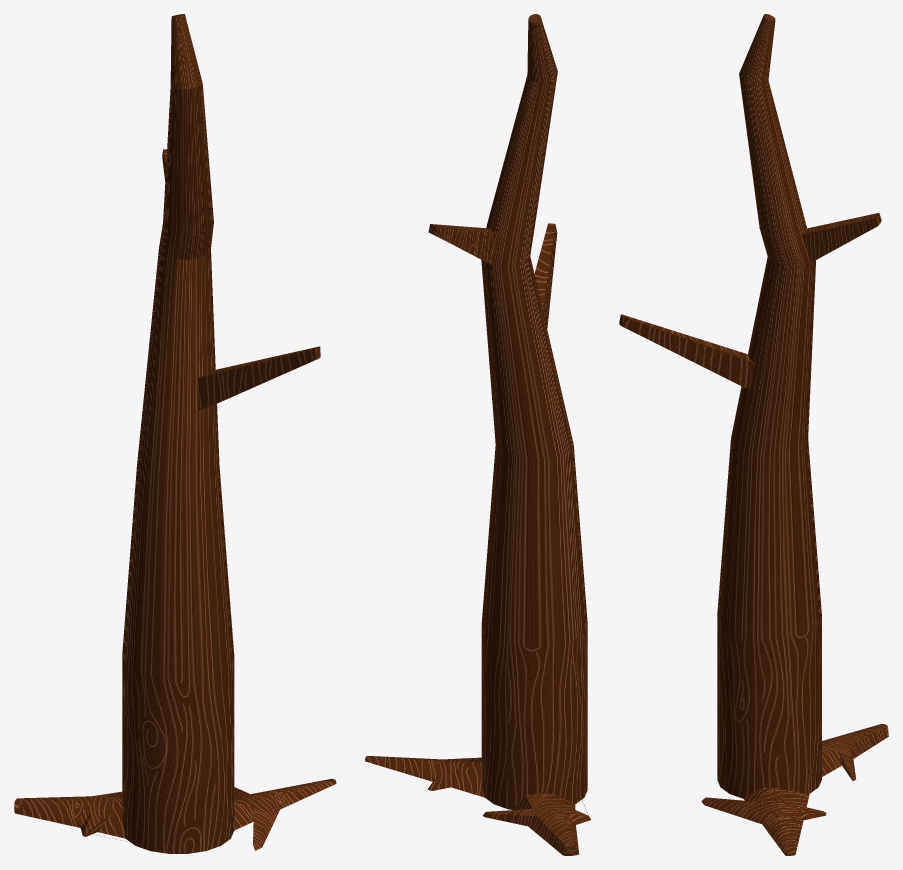
The picture shows the model from 3 angles, left to right: view 1: azimuth 30°, elevation 25°; view 2: azimuth 150°, elevation 25°; view 3: azimuth 270°, elevation 25°; orthographic projection. The views are drawn at different scales.
Parts seen in each view (by area): view 1: Cylinder.002; view 2: Cylinder.002; view 3: Cylinder.002.
Part boxes in pixels (x1,y1,x2,y2): Cylinder.002: [14, 14, 336, 853]; Cylinder.002: [365, 14, 590, 855]; Cylinder.002: [619, 14, 888, 855].
Size of the model in its own units: 562 by 1616 by 515.
Materials: 1 (1 with a texture image).
